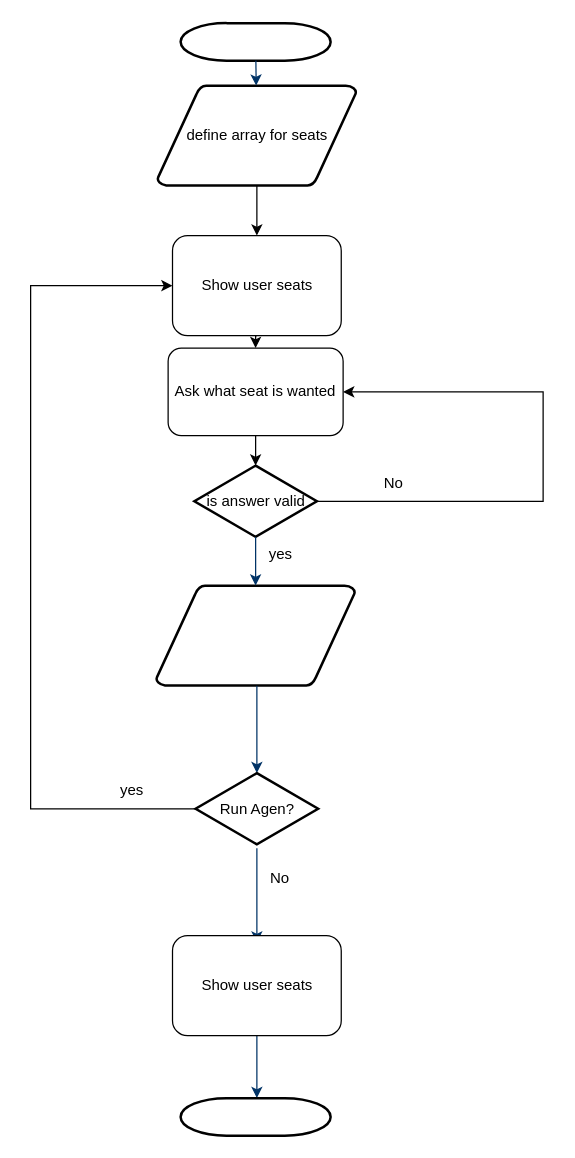
Image size: 575x1158. Some labels were removed from this diagram. The box of each missing label's shape, as (x1, y1, x2, y2) in pixels:
end: (179, 1096, 331, 1136)
Replace seat with "X": (154, 584, 356, 686)
start: (179, 21, 331, 61)
